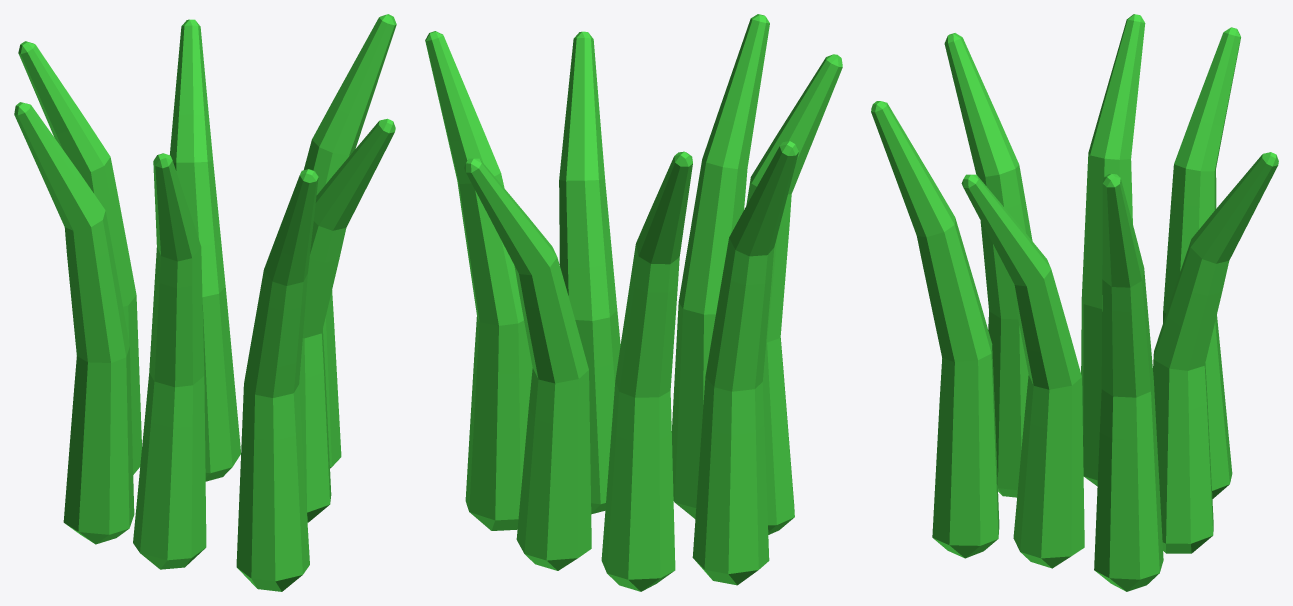
3 renders of one model, left to right at view 1: azimuth 30°, elevation 25°; view 2: azimuth 150°, elevation 25°; view 3: azimuth 270°, elevation 25°, orthographic. The views are drawn at different scales.
Parts seen in each view (by area): view 1: Vert.002; view 2: Vert.002; view 3: Vert.002.
Boxes of the visible parts, x1,y1,x2,y2 form: Vert.002: [14, 14, 396, 591]; Vert.002: [425, 14, 842, 591]; Vert.002: [871, 14, 1278, 591].
Bounding box in the file's own units: 0.2194 × 0.2695 × 0.2123.
